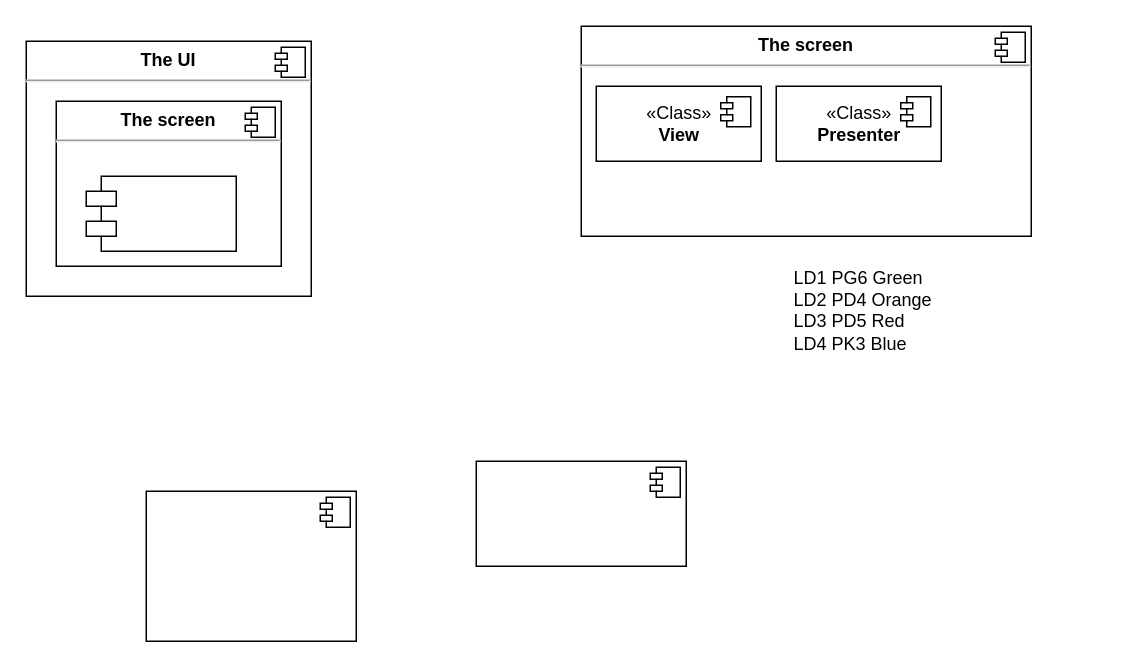
This 1148x668 diagram has some shape labels left out. Each missing label, with the centre of its shape:
"The Image + Image format + Dither Algorithm + Alpha dither + Section" belongs at [250,565].
"The Interaction + Trigger + Action" belongs at [580,513].
"widgets" belongs at [160,213].
